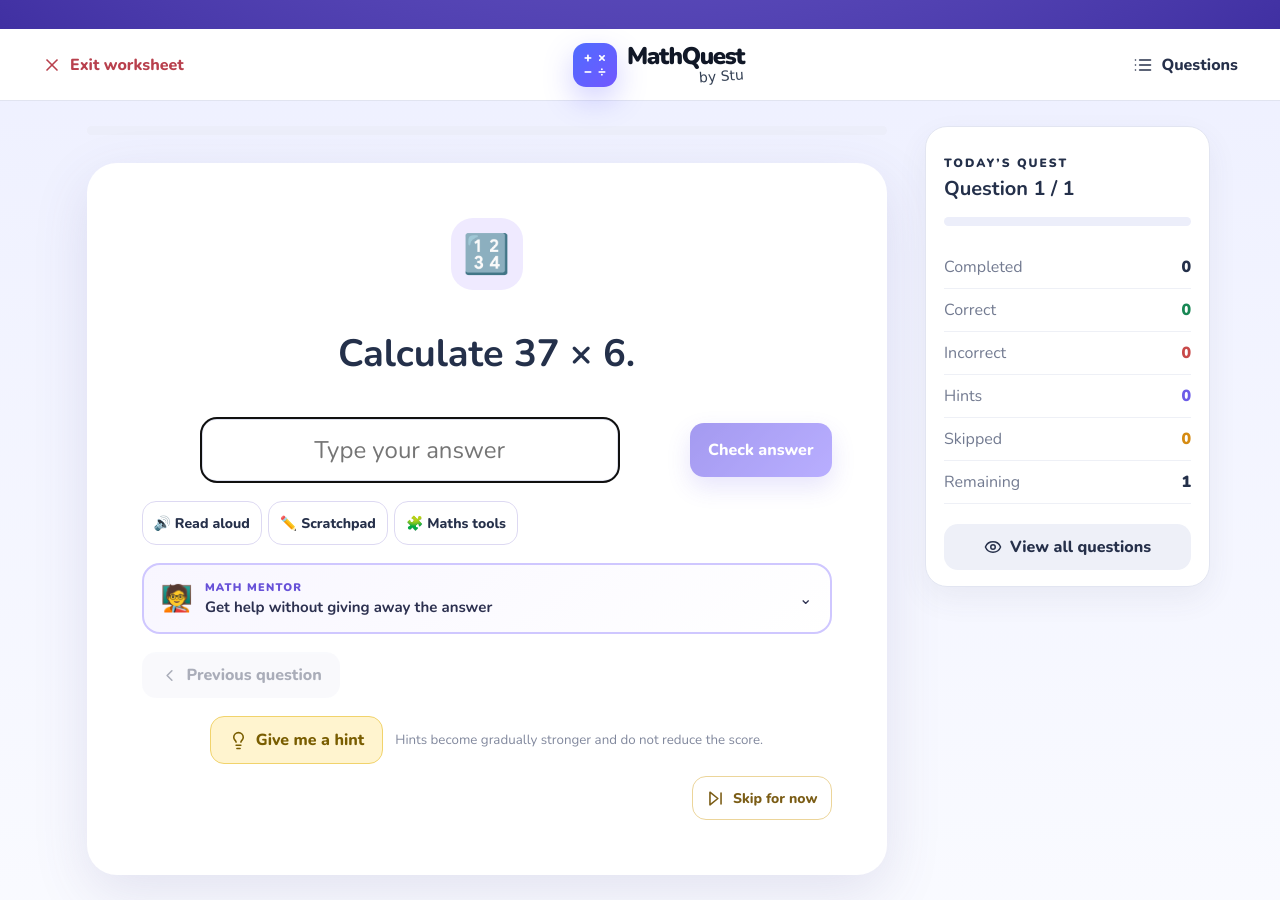
Test: v0.29 optional tutoring › keeps retry available after an incorrect answer without requiring Math Mentor
(page scrolled)
Type "216" into the field labelled "your answer".
click(410, 450); type("216")  # box left=200, top=417, right=620, bottom=483
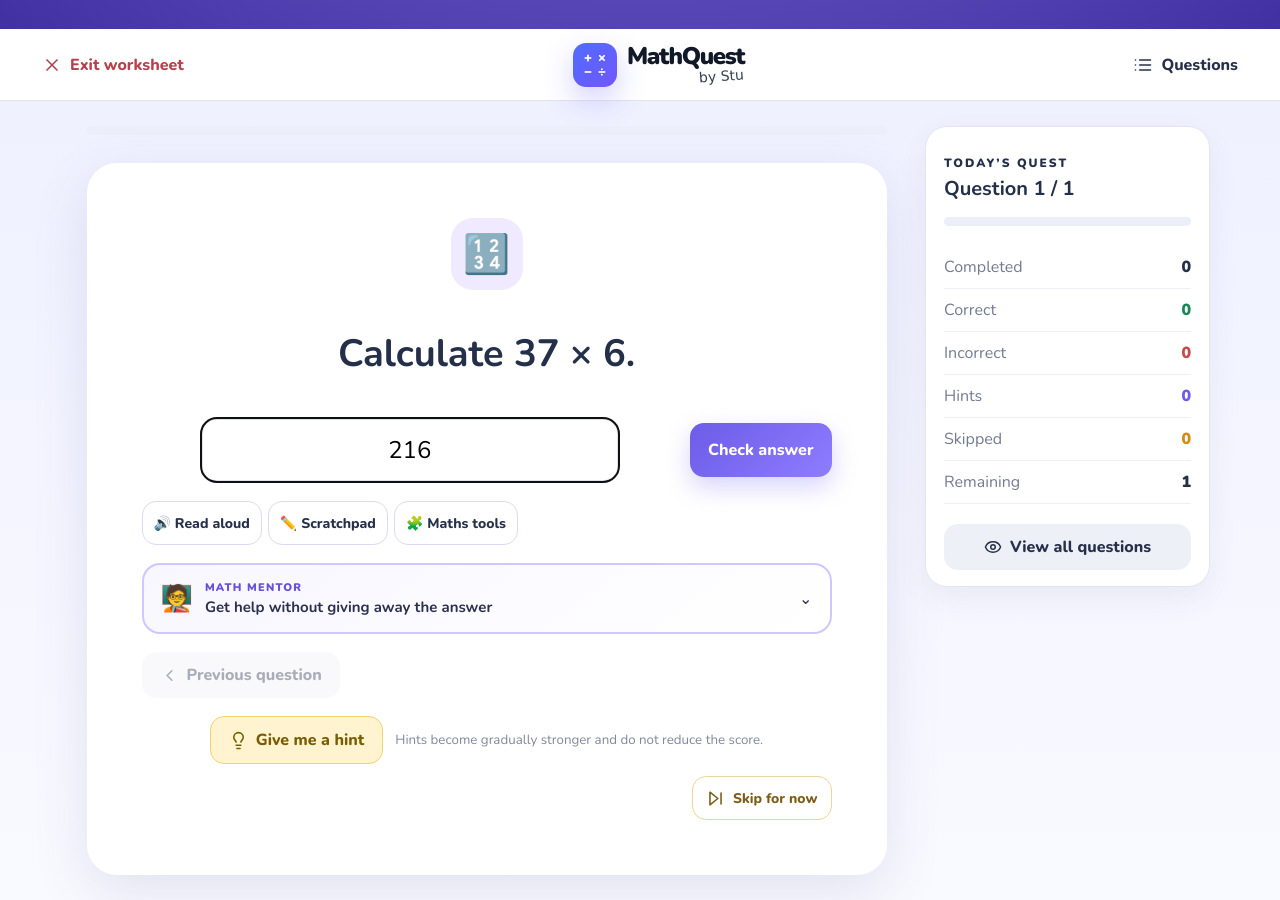
Click the button "Check answer".
click(761, 450)  # box left=690, top=423, right=832, bottom=477
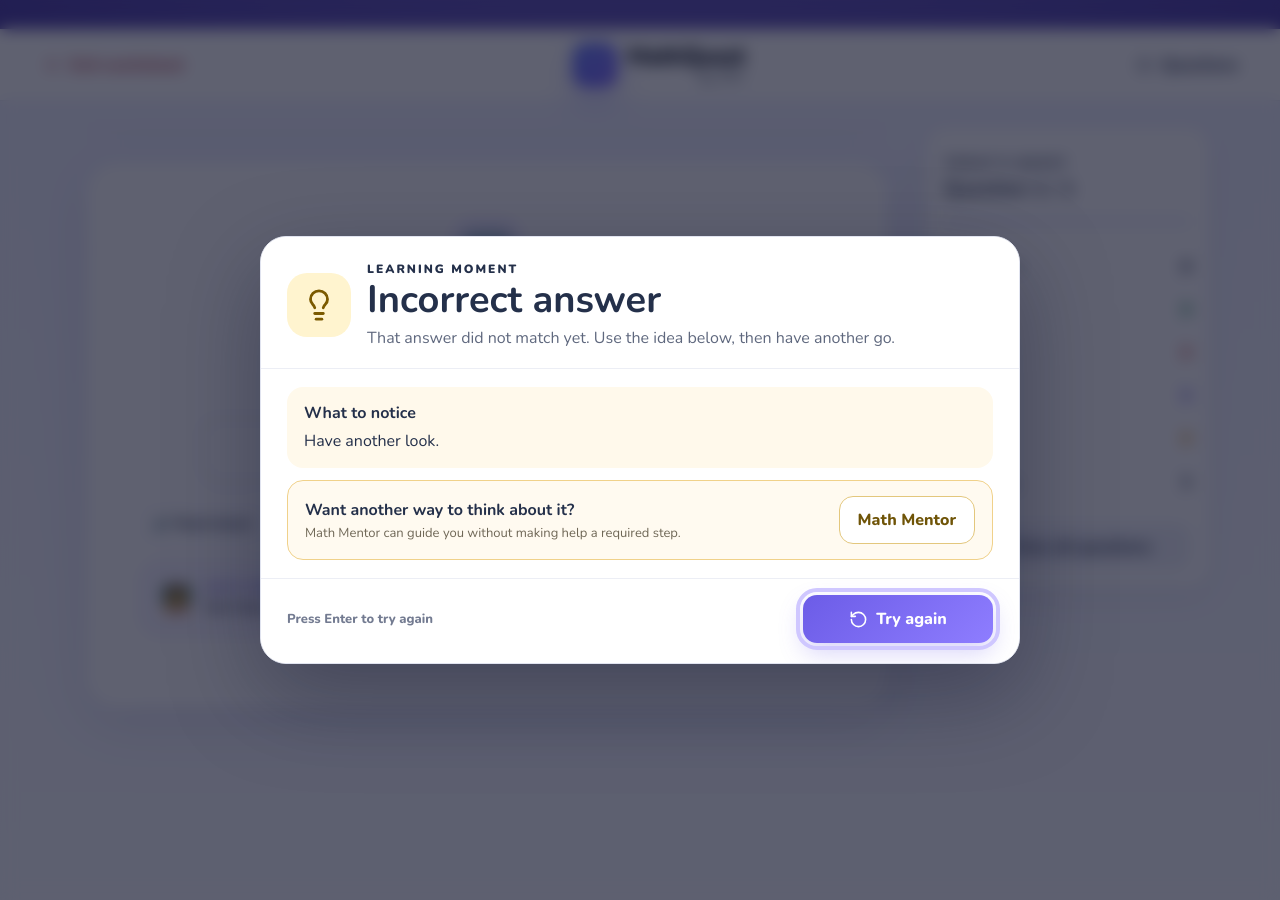
Check: the dialog "Incorrect answer" is shown, box left=260, top=236, right=1020, bottom=664
Check: the text "Have another look." is shown, box left=304, top=430, right=439, bottom=452
Check: the button "Try again" is enabled
Click the button "Try again".
click(898, 619)  # box left=803, top=595, right=993, bottom=643
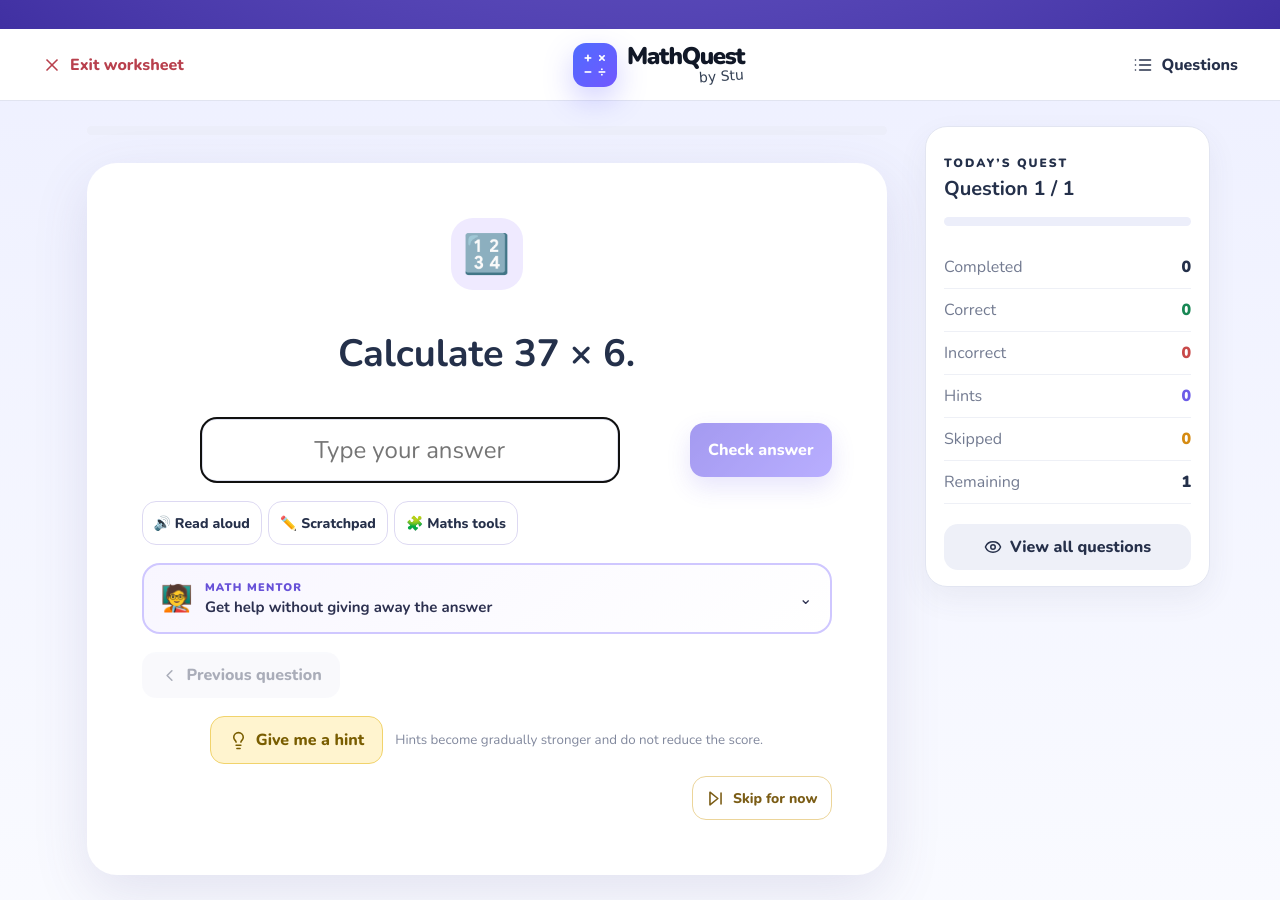
Type "222" into the field labelled "your answer".
click(410, 450); type("222")  # box left=200, top=417, right=620, bottom=483
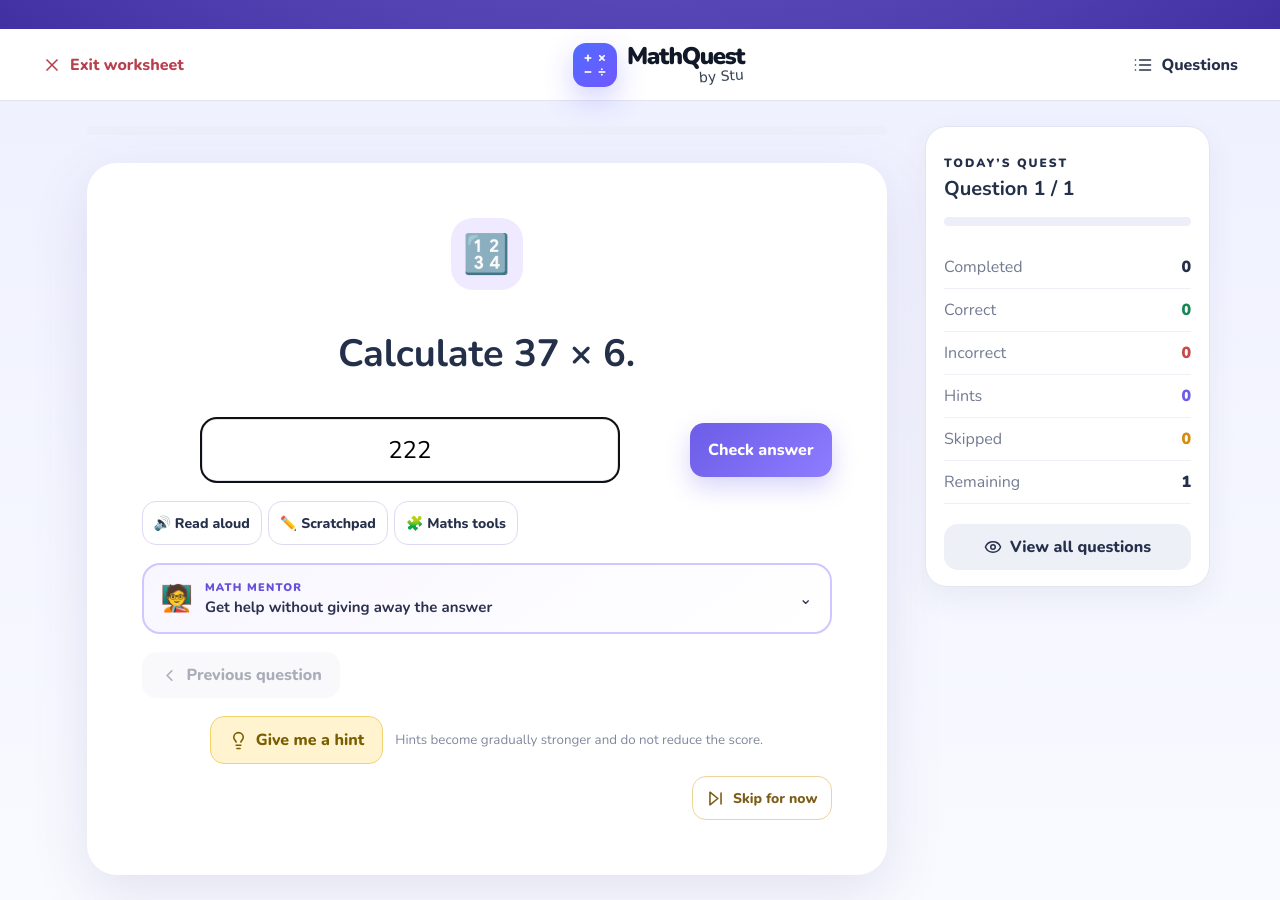
Click the button "Check answer".
click(761, 450)  # box left=690, top=423, right=832, bottom=477
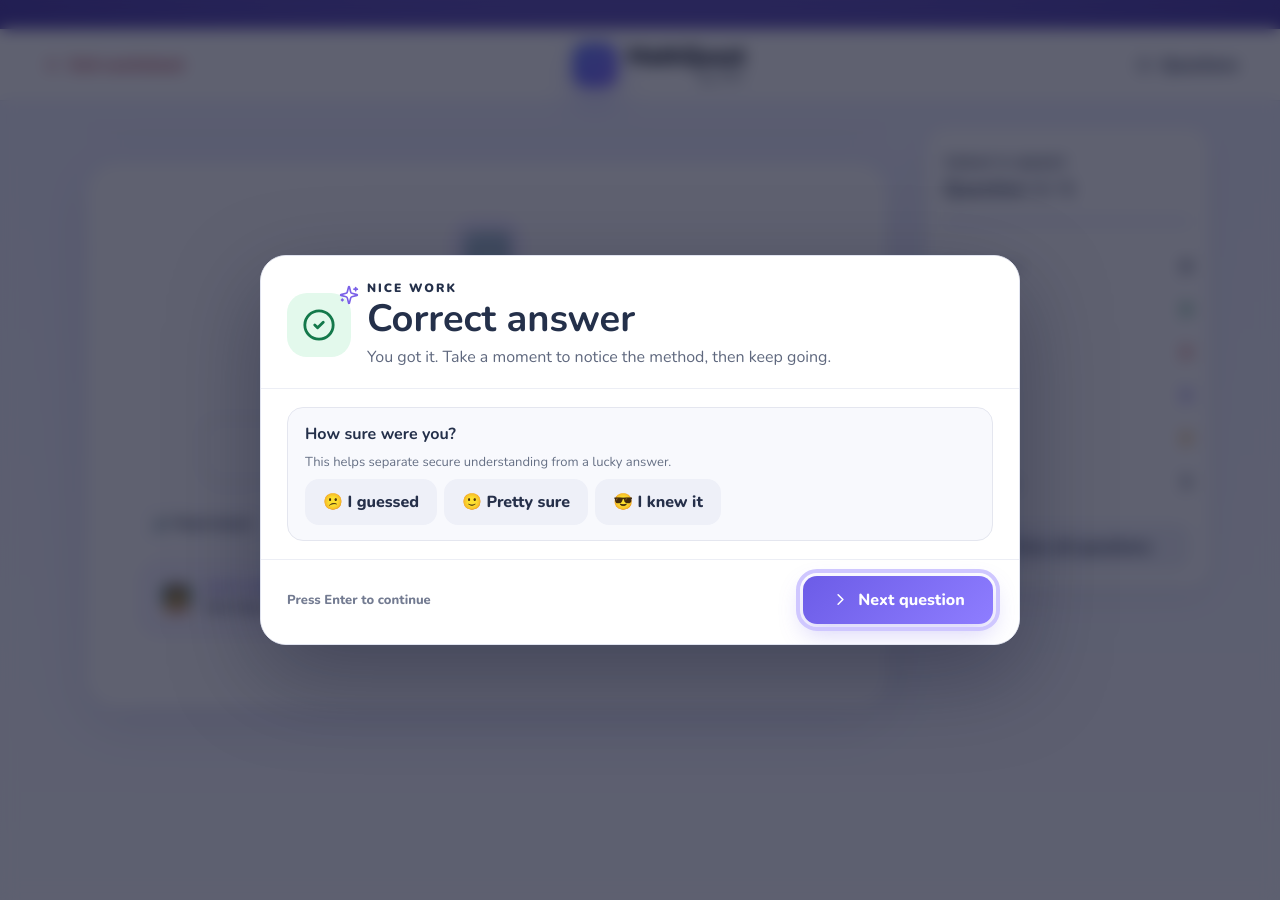
Check: the dialog "Correct answer" is shown, box left=260, top=256, right=1020, bottom=645
